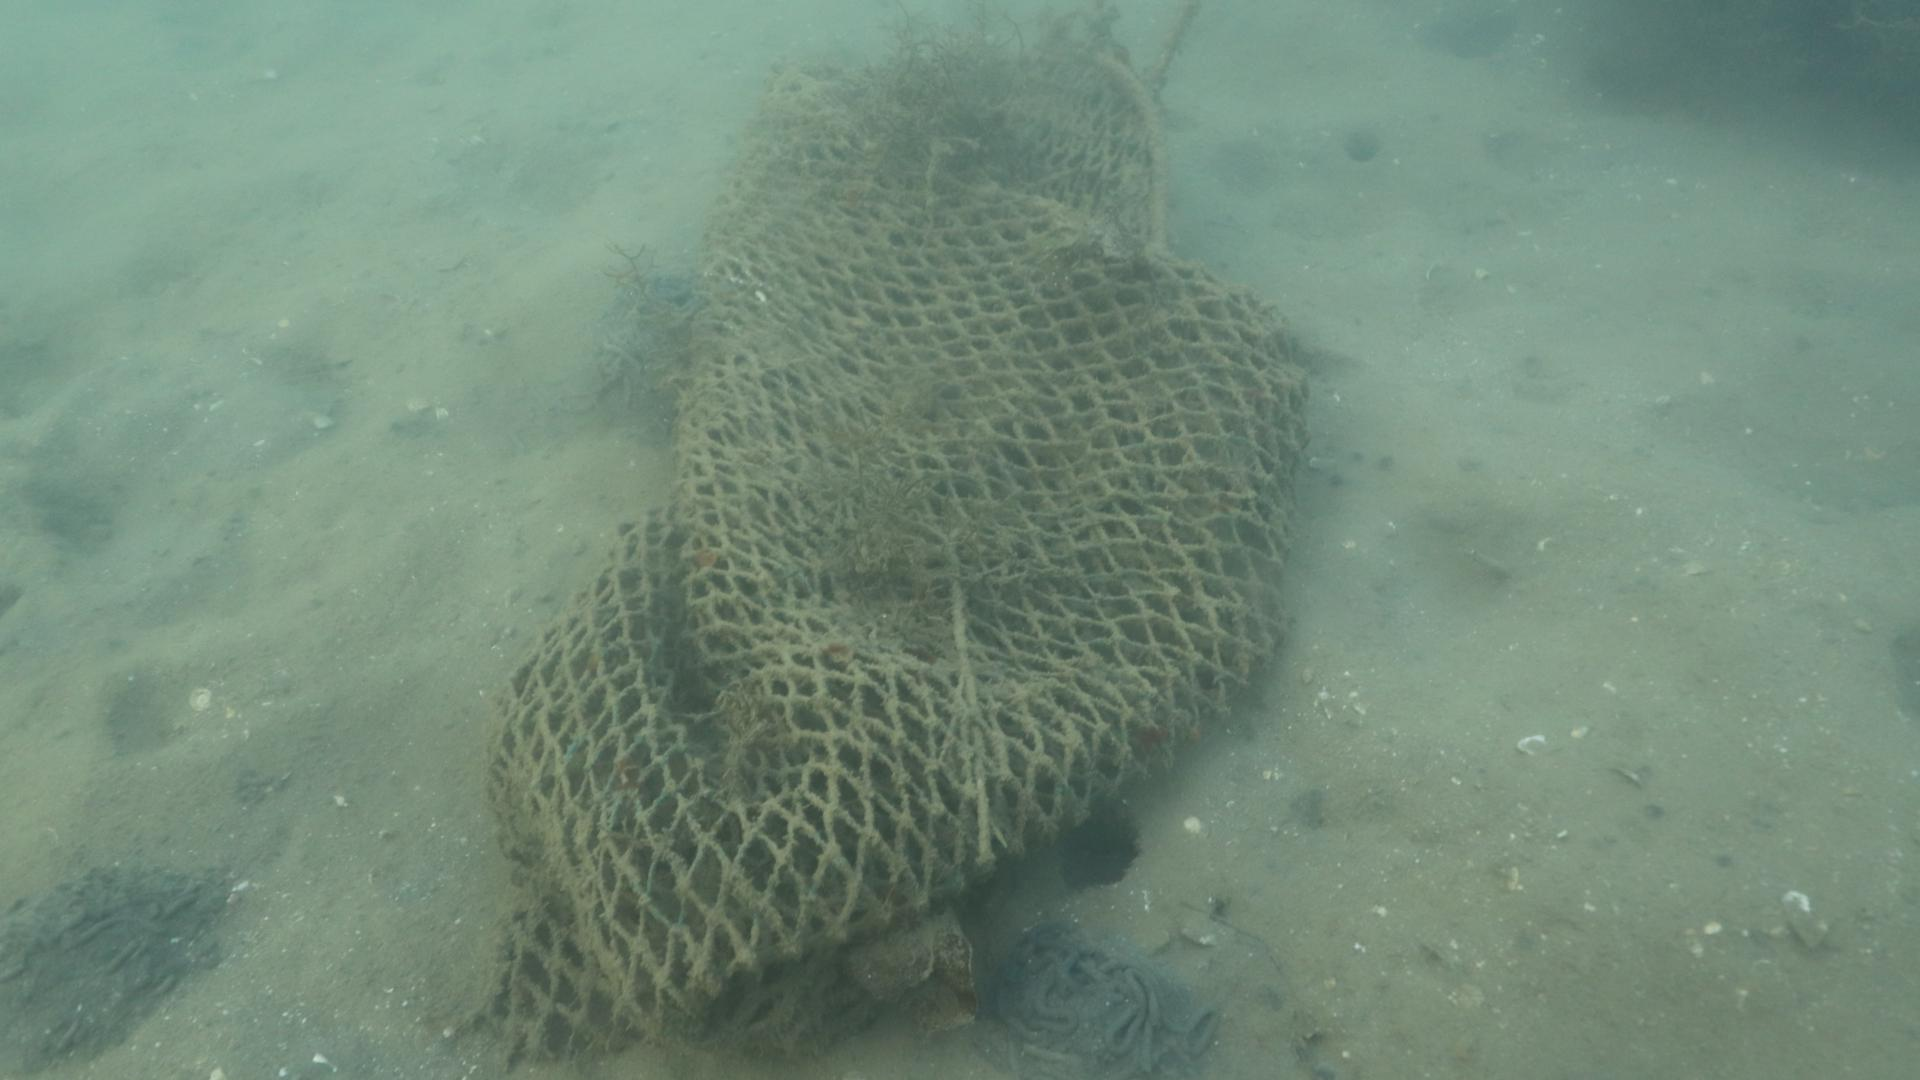fish net: (485, 54, 1313, 1069)
